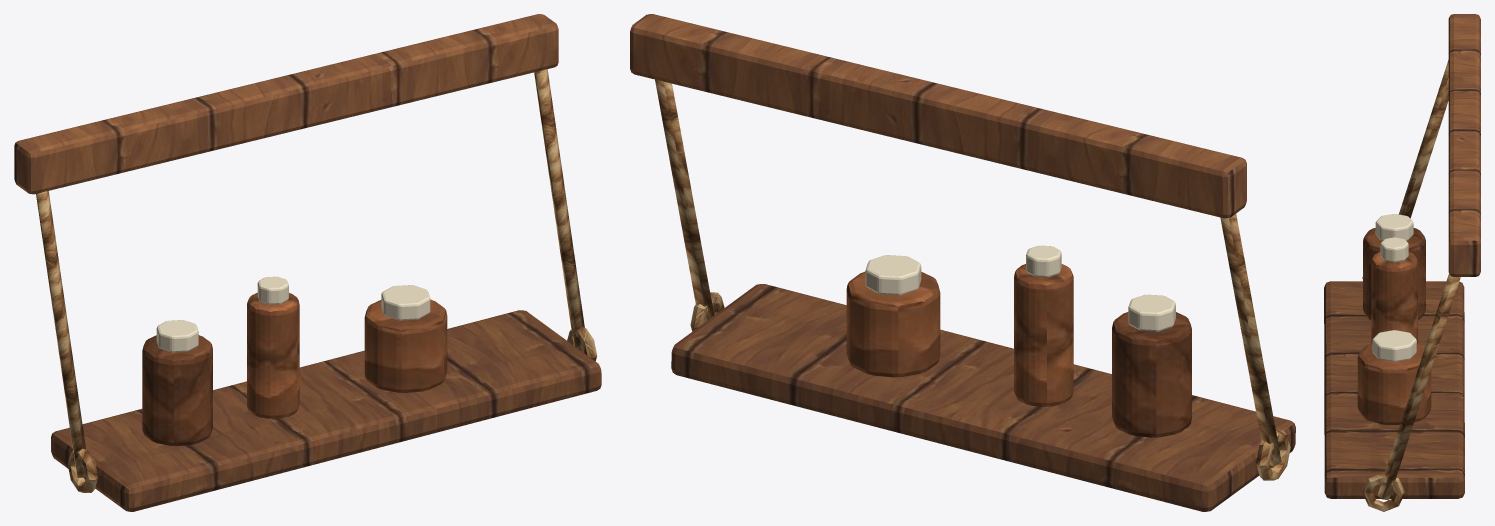
The model's file is shack_shelf.glb.
The picture shows the model from 3 angles, left to right: view 1: azimuth 30°, elevation 25°; view 2: azimuth 150°, elevation 25°; view 3: azimuth 270°, elevation 25°; orthographic projection. The views are drawn at different scales.
Parts seen in each view (by area): view 1: model; view 2: model; view 3: model.
Boxes of the visible parts, x1=… form: model: x1=14, y1=14, x2=601, y2=511; model: x1=630, y1=14, x2=1295, y2=511; model: x1=1324, y1=14, x2=1480, y2=511.
Bounding box in the file's own units: 1 × 0.572 × 0.2905.
Materials: 8 (7 with a texture image).
